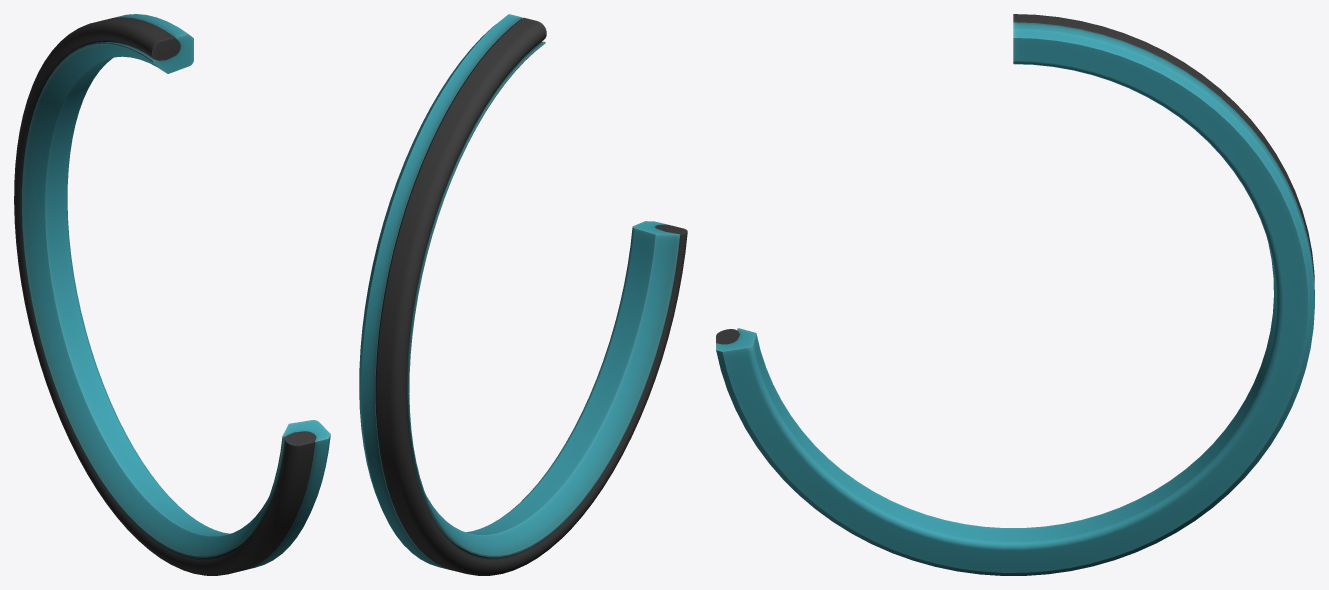
The picture shows the model from 3 angles, left to right: view 1: azimuth 30°, elevation 25°; view 2: azimuth 150°, elevation 25°; view 3: azimuth 270°, elevation 25°; orthographic projection. The views are drawn at different scales.
Visible parts, largest first — view 1: PR00057_turcon_vl_seal_rod; view 2: PR00057_turcon_vl_seal_rod; view 3: PR00057_turcon_vl_seal_rod.
Boxes of the visible parts, x1,y1,x2,y2 form: PR00057_turcon_vl_seal_rod: (14,14,330,575); PR00057_turcon_vl_seal_rod: (359,14,687,575); PR00057_turcon_vl_seal_rod: (716,14,1314,575).
Size of the model in its own units: 0.017 by 0.1996 by 0.1981.
Materials: 1 (1 with a texture image).
